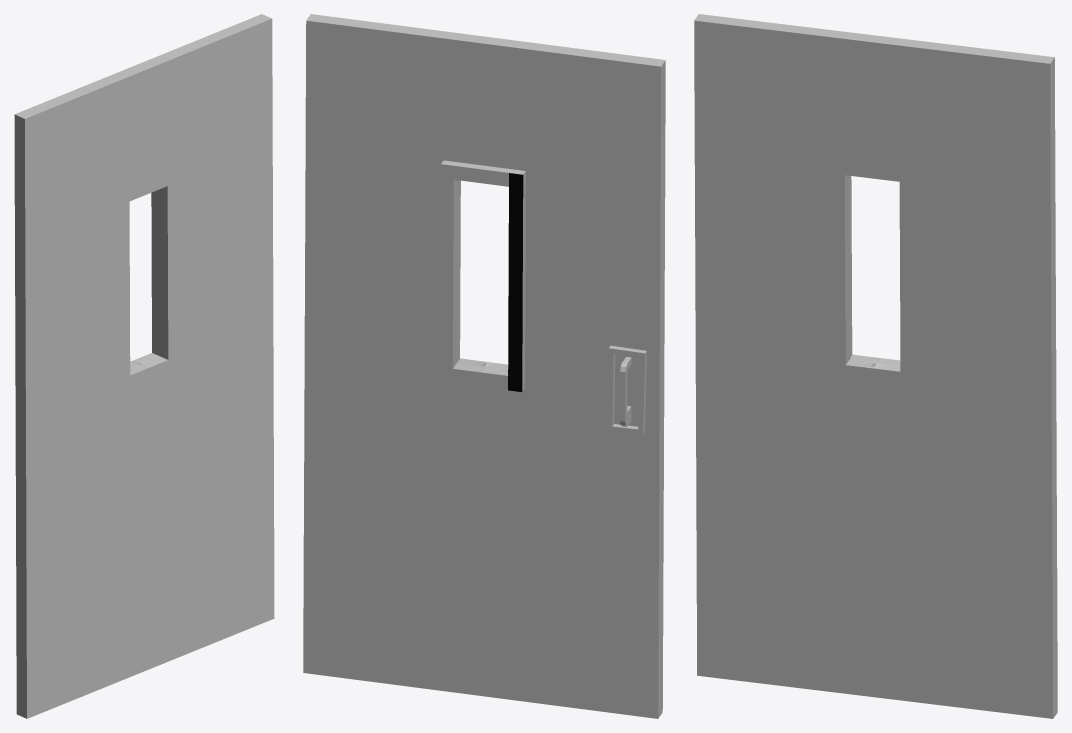
File: NewDoor.fbx
3 views of the same model, side by side, from view 1: azimuth 30°, elevation 25°; view 2: azimuth 150°, elevation 25°; view 3: azimuth 330°, elevation 25° (orthographic). The views are drawn at different scales.
Visible parts, largest first — view 1: SingleDoor; view 2: SingleDoor; view 3: SingleDoor.
Boxes of the visible parts, <box> form: SingleDoor: <box>14,14,274,718</box>; SingleDoor: <box>303,14,665,718</box>; SingleDoor: <box>694,14,1057,718</box>.
Bounding box in the file's own units: 132 × 259 × 36.87.
